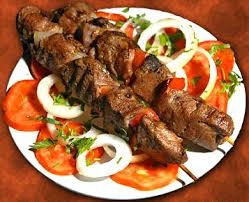kebap: (16, 2, 233, 176), (132, 55, 172, 102)
